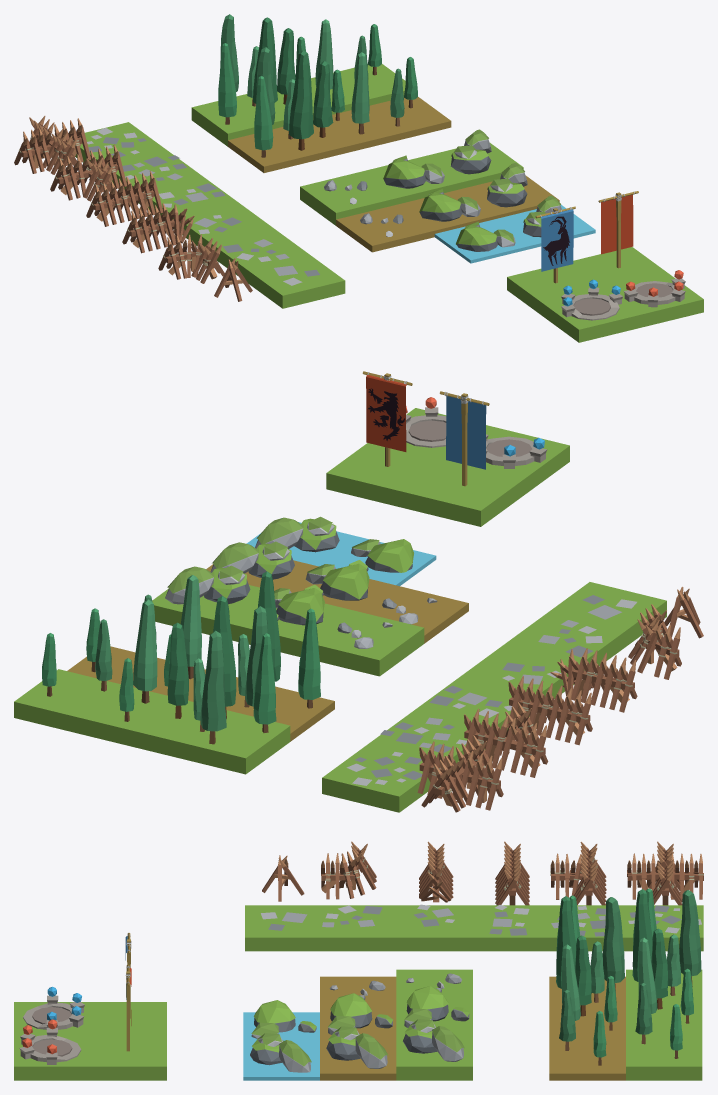
Rendered from ctf_level_models_03.fbx.
3 renders of one model, top to bottom at view 1: azimuth 30°, elevation 25°; view 2: azimuth 150°, elevation 25°; view 3: azimuth 270°, elevation 25°, orthographic. The views are drawn at different scales.
Parts seen in each view (by area): view 1: Dirt_Dense_Trees, Grass_Dense_Trees, Dirt_Mid_Trees, Blue_Flag, Red_Flag, Blue_Spawn, Tile_Single, Dirt_Sparse_Trees, Grass_Small_Rocks, Red_Spawn, Dirt_Small_Rocks, Grass_Large_Rock1 (+18 smaller); view 2: Grass_Dense_Trees, Blue_Flag, Grass_Mid_Trees, Red_Flag, Dirt_Dense_Trees, Grass_Sparse_Trees, Grass_Small_Rocks, Tile_Cross, Blockade_Cross, Tile_Single, Grass_Large_Rock1, Tile_Turn (+18 smaller); view 3: Grass_Sparse_Trees, Grass_Dense_Trees, Dirt_Dense_Trees, Grass_Large_Rock1, Dirt_Sparse_Trees, Red_Flag, Grass_Mid_Trees, Dirt_Mid_Trees, Red_Spawn, Tile_End, Tile_Turn, Tile_Line (+18 smaller).
Part boxes in pixels (x1,y1,x2,y2): Dirt_Dense_Trees: [228, 47, 326, 172]; Grass_Dense_Trees: [191, 14, 284, 146]; Dirt_Mid_Trees: [308, 52, 388, 157]; Blue_Flag: [507, 206, 604, 316]; Red_Flag: [573, 191, 667, 287]; Blue_Spawn: [543, 279, 641, 342]; Tile_Single: [246, 254, 345, 308]; Dirt_Sparse_Trees: [369, 57, 451, 142]; Grass_Small_Rocks: [300, 171, 398, 225]; Red_Spawn: [605, 270, 703, 327]; Dirt_Small_Rocks: [336, 204, 434, 252]; Grass_Large_Rock1: [425, 129, 523, 188]; Grass_Dense_Trees: [168, 596, 290, 774]; Blue_Flag: [403, 391, 525, 526]; Grass_Mid_Trees: [91, 599, 195, 755]; Red_Flag: [326, 371, 446, 507]; Dirt_Dense_Trees: [226, 571, 334, 741]; Grass_Sparse_Trees: [14, 619, 135, 736]; Grass_Small_Rocks: [302, 609, 424, 676]; Tile_Cross: [322, 745, 430, 812]; Blockade_Cross: [417, 735, 503, 812]; Tile_Single: [545, 582, 666, 649]; Grass_Large_Rock1: [152, 565, 259, 634]; Tile_Turn: [501, 614, 622, 670]; Grass_Sparse_Trees: [626, 983, 702, 1080]; Grass_Dense_Trees: [626, 888, 702, 1001]; Dirt_Dense_Trees: [549, 895, 625, 1008]; Grass_Large_Rock1: [396, 1019, 472, 1080]; Dirt_Sparse_Trees: [549, 990, 625, 1080]; Red_Flag: [90, 964, 166, 1080]; Grass_Mid_Trees: [626, 928, 702, 1034]; Dirt_Mid_Trees: [549, 935, 625, 1041]; Red_Spawn: [14, 1019, 90, 1080]; Tile_End: [397, 904, 474, 951]; Tile_Turn: [321, 905, 397, 951]; Tile_Line: [474, 905, 550, 951].
Size of the model in its own units: 6 by 9.02 by 1.81.
